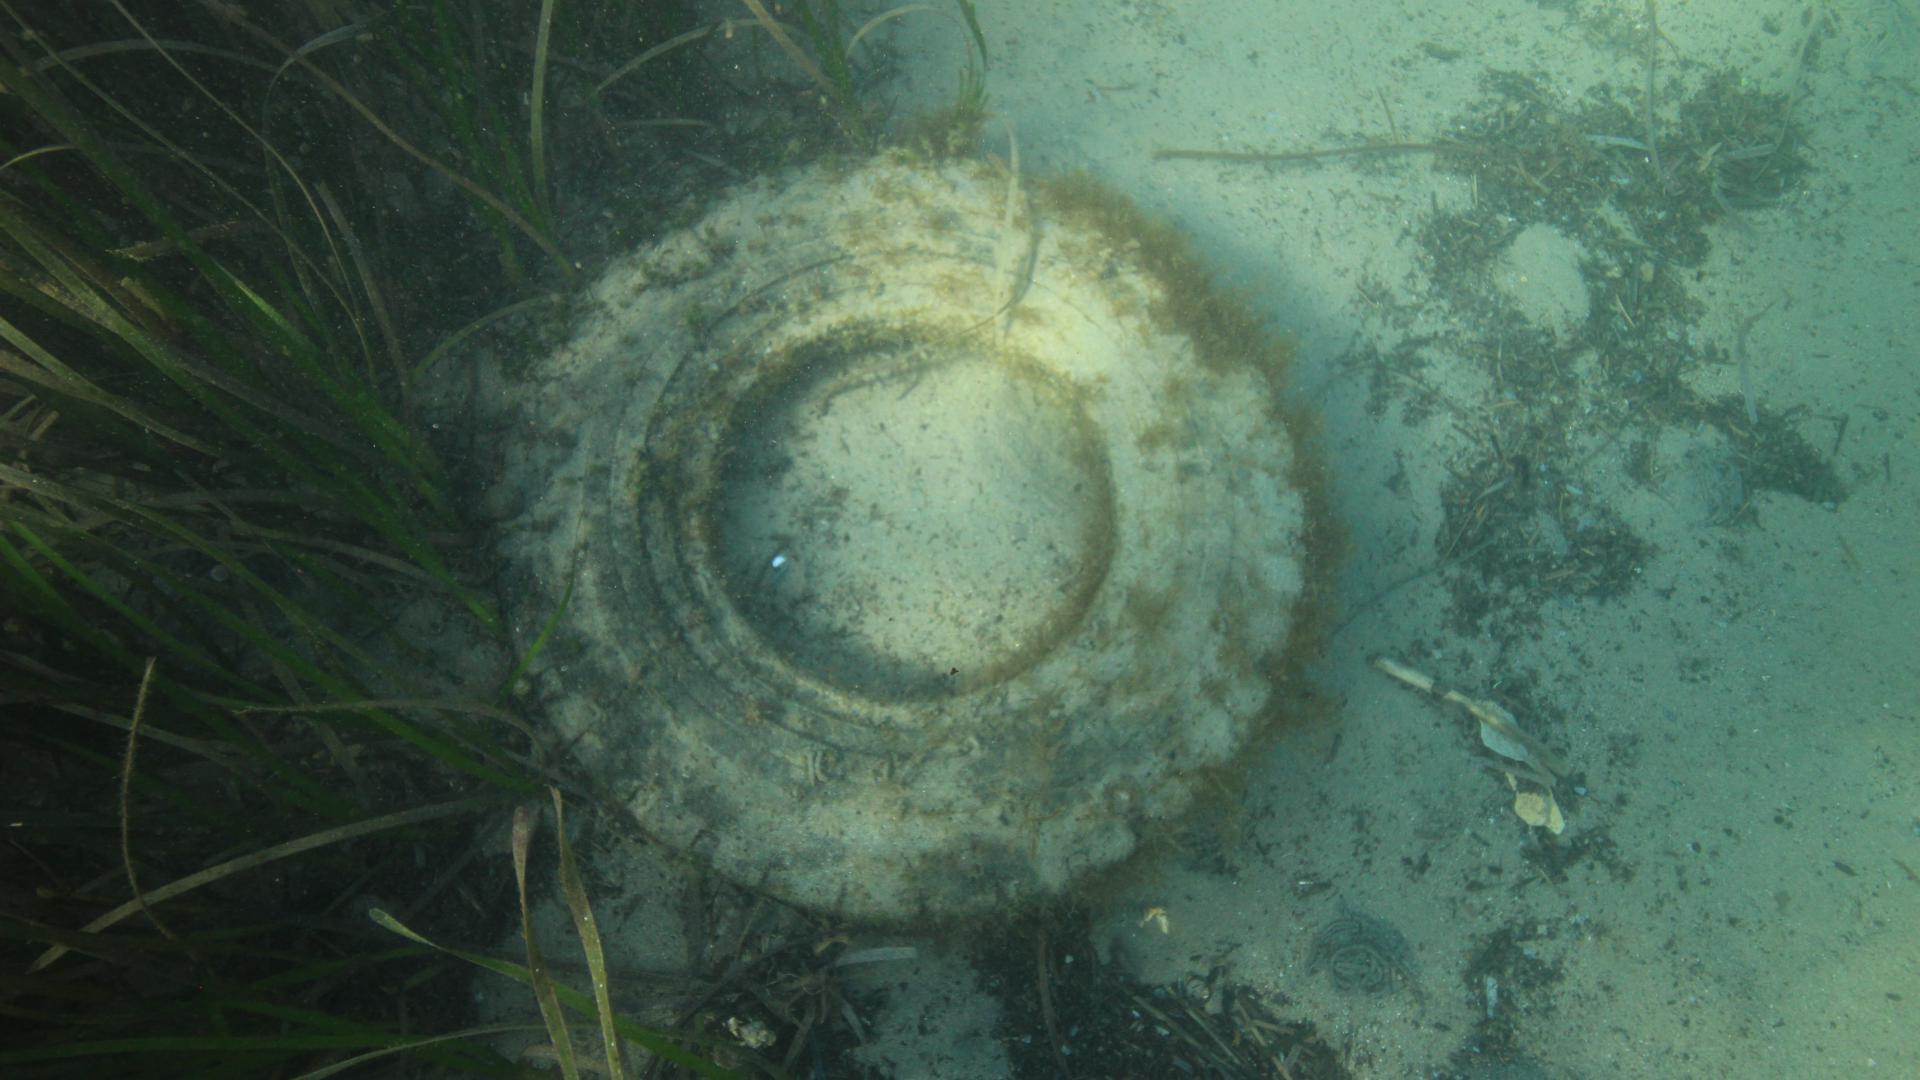tire: (491, 142, 1305, 938)
